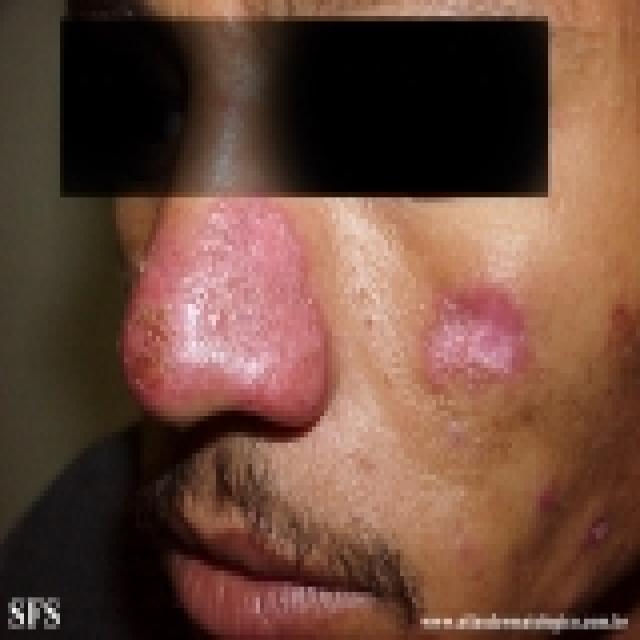lupus: (126, 181, 339, 439), (414, 266, 553, 406)
